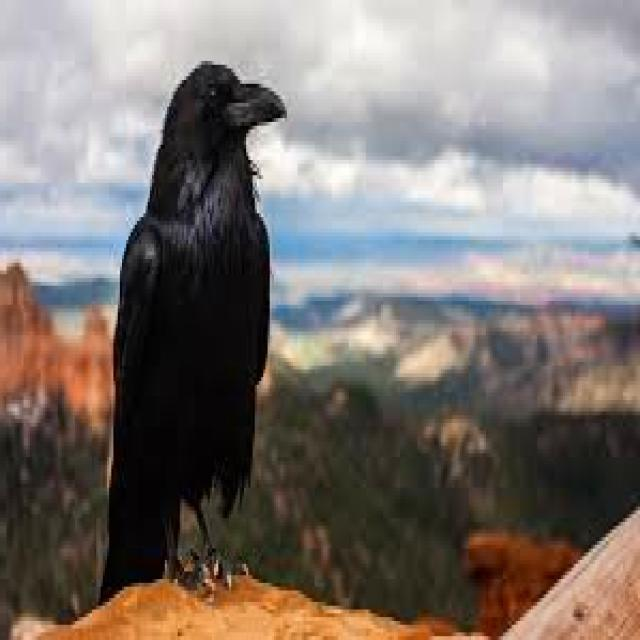crow: (101, 61, 287, 602)
